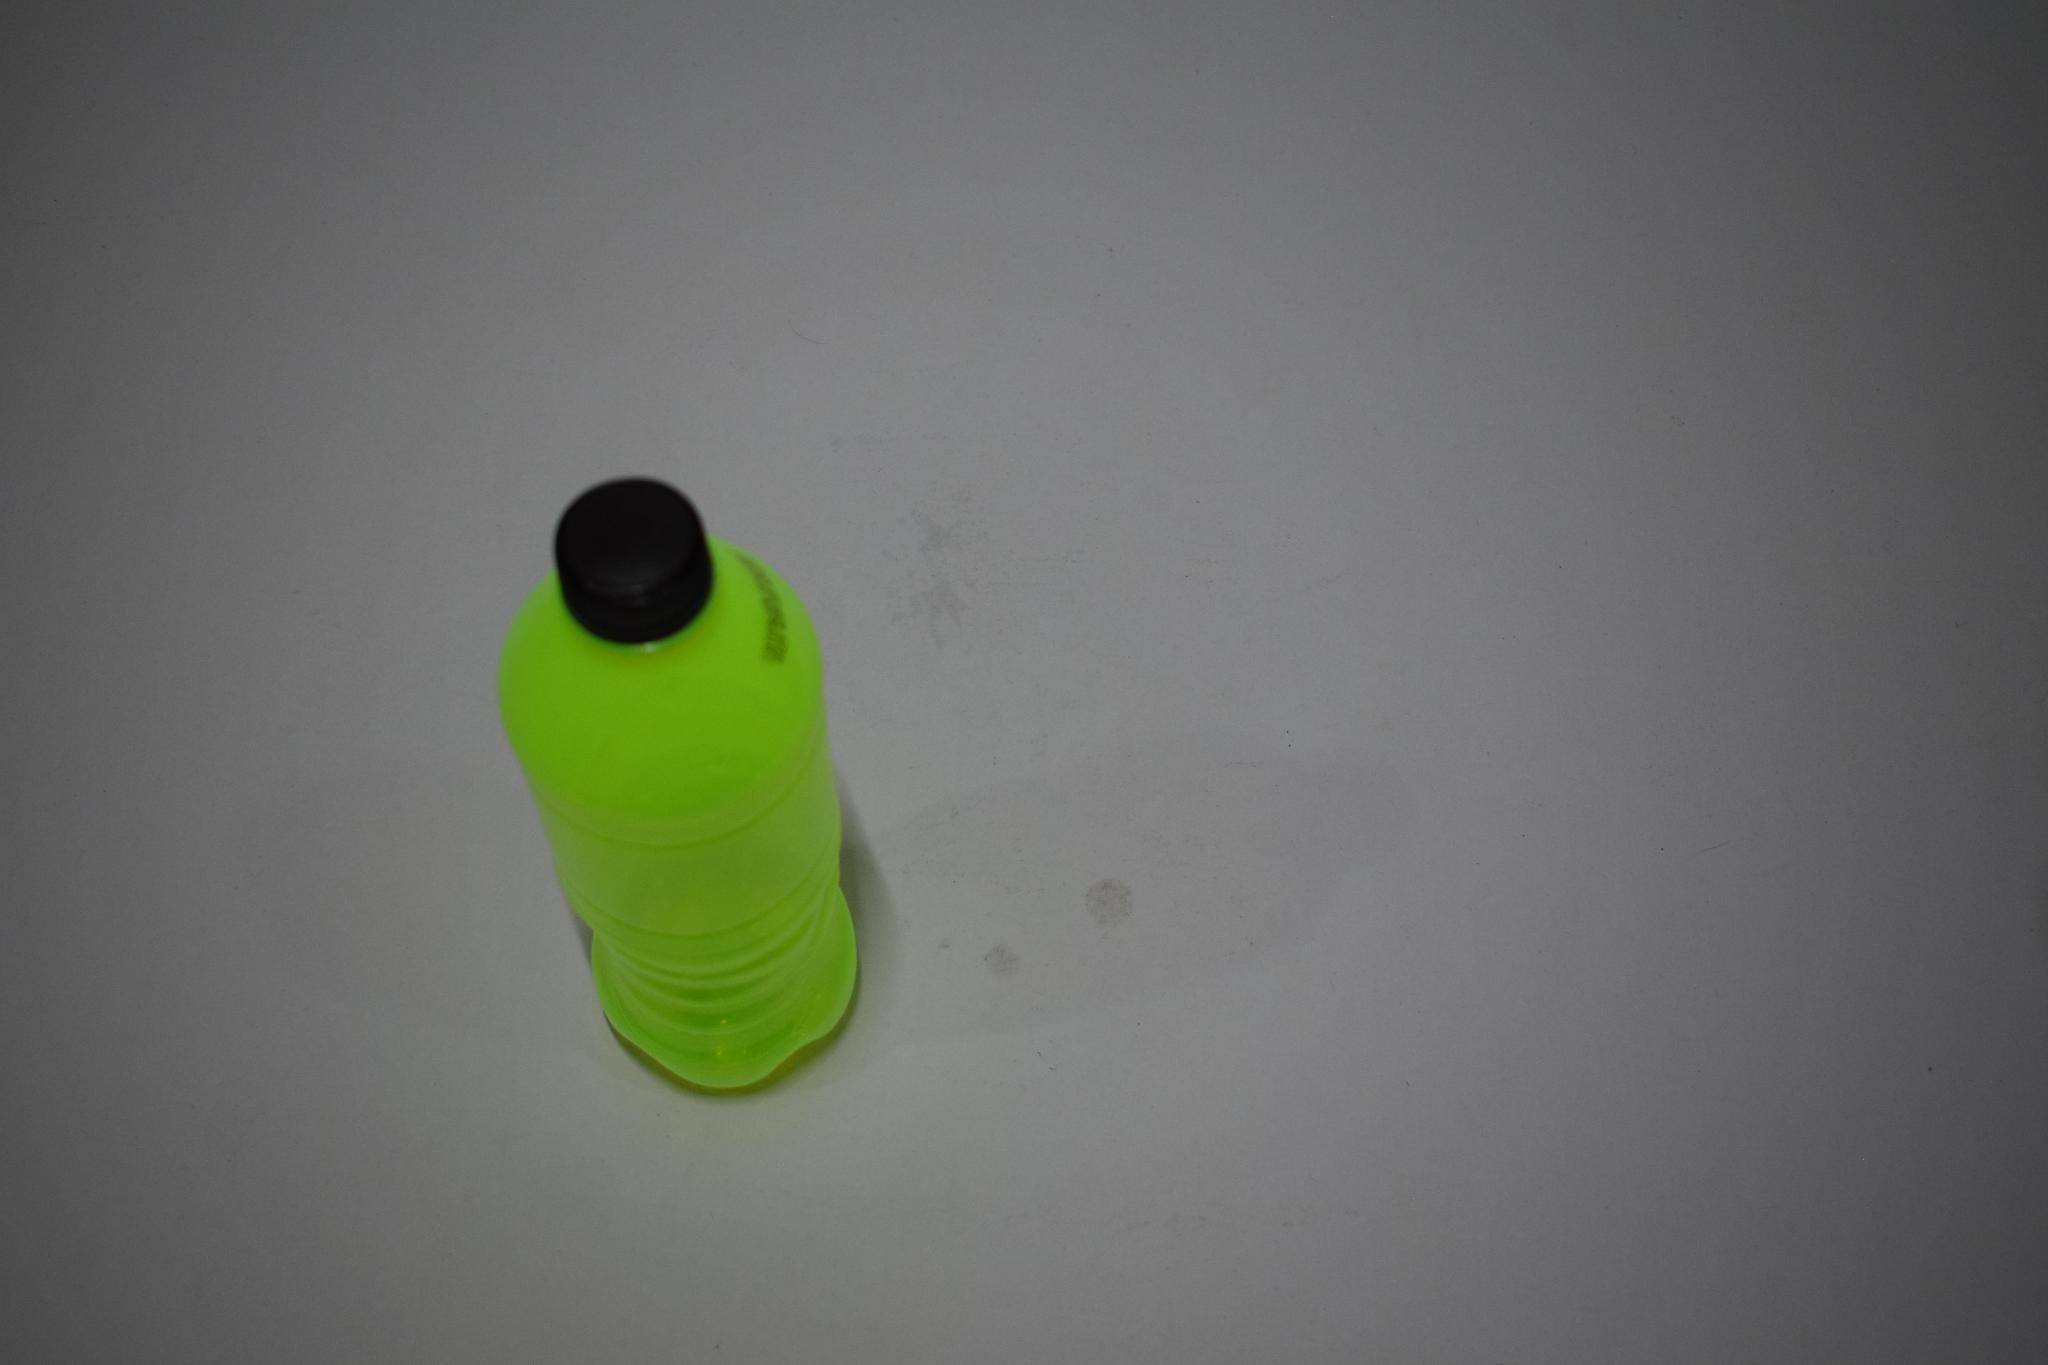bottle: (484, 442, 859, 1138)
